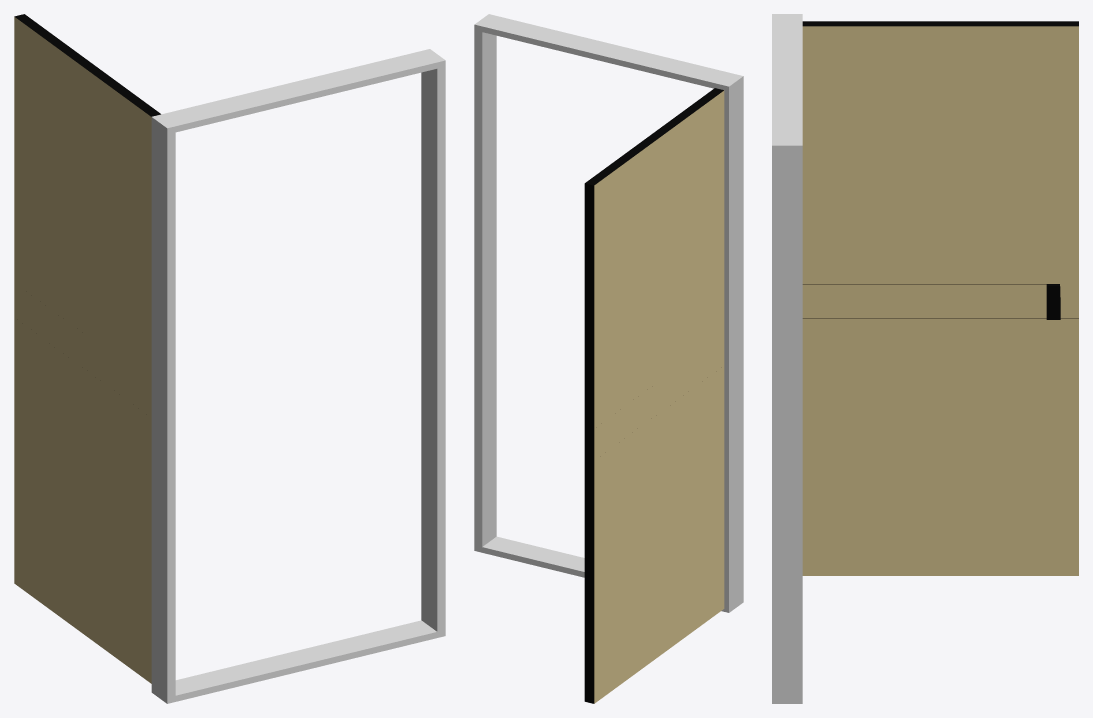
3 views of the same model, side by side, from view 1: azimuth 30°, elevation 25°; view 2: azimuth 150°, elevation 25°; view 3: azimuth 270°, elevation 25° (orthographic). The views are drawn at different scales.
Parts seen in each view (by area): view 1: 立方体, Cube; view 2: 立方体, Cube; view 3: 立方体, Cube.
Part boxes in pixels (box(x1,y1,x2,y2)): 立方体: box(14, 14, 160, 683); Cube: box(151, 49, 445, 703); 立方体: box(584, 88, 724, 703); Cube: box(474, 14, 743, 612); 立方体: box(802, 21, 1078, 575); Cube: box(772, 14, 802, 703).
Bounding box in the file's own units: 695 × 1372 × 683.
